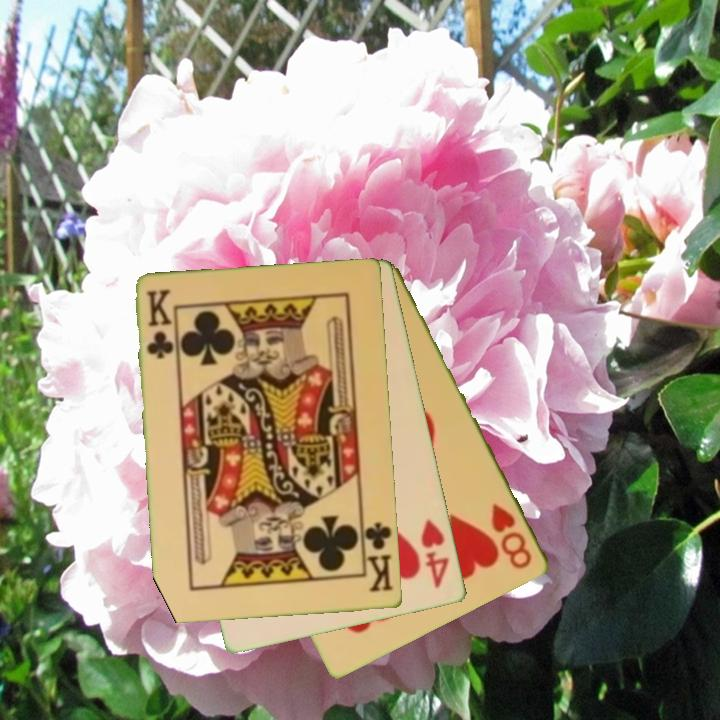4h: (418, 516, 453, 592)
8h: (488, 500, 536, 573)
Kc: (359, 517, 397, 595), (142, 286, 176, 363)
